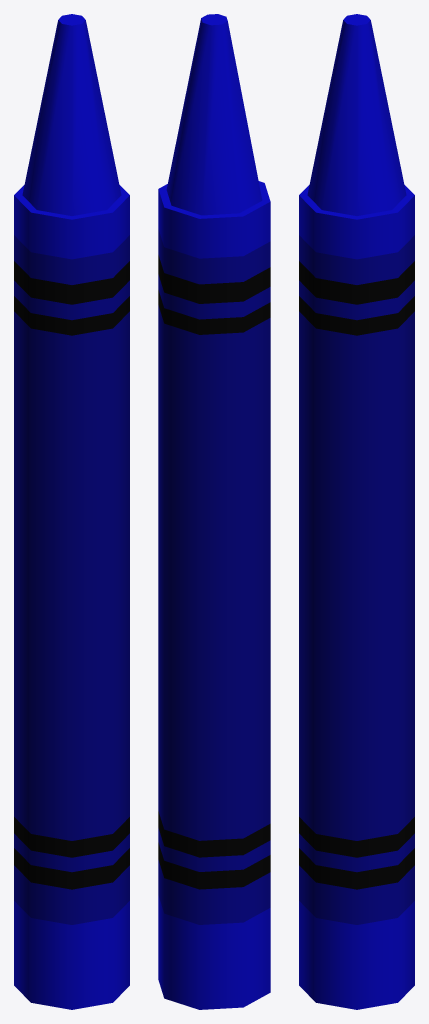
File: CrayonBlue.fbx
The picture shows the model from 3 angles, left to right: view 1: azimuth 90°, elevation 25°; view 2: azimuth 210°, elevation 25°; view 3: azimuth 270°, elevation 25°; orthographic projection.
Parts seen in each view (by area): view 1: pasted__pCylinder1; view 2: pasted__pCylinder1; view 3: pasted__pCylinder1.
Boxes of the visible parts, x1,y1,x2,y2 form: pasted__pCylinder1: [14, 14, 129, 1009]; pasted__pCylinder1: [158, 14, 270, 1009]; pasted__pCylinder1: [299, 14, 414, 1009].
Size of the model in its own units: 1.37 by 12.55 by 1.37.
